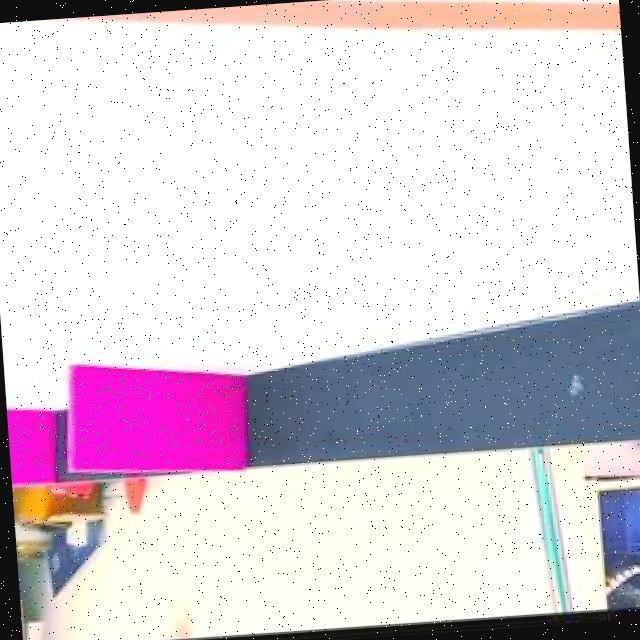xparking: (69, 368, 244, 472), (5, 412, 54, 484)
